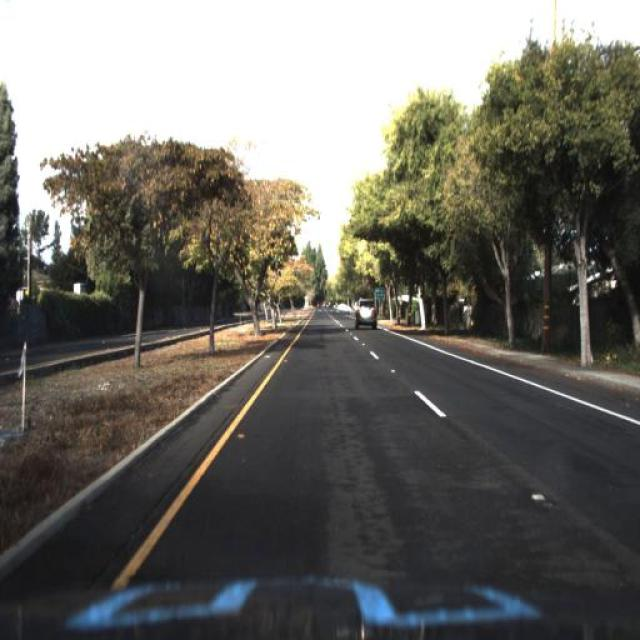car: (352, 296, 382, 332)
